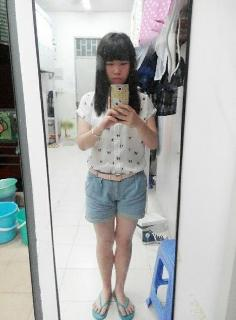short sleeve top: (77, 86, 158, 174)
shorts: (85, 167, 148, 224)
